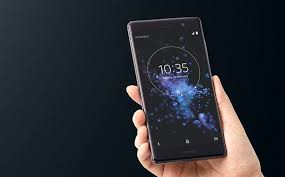sony: (128, 14, 229, 163)
